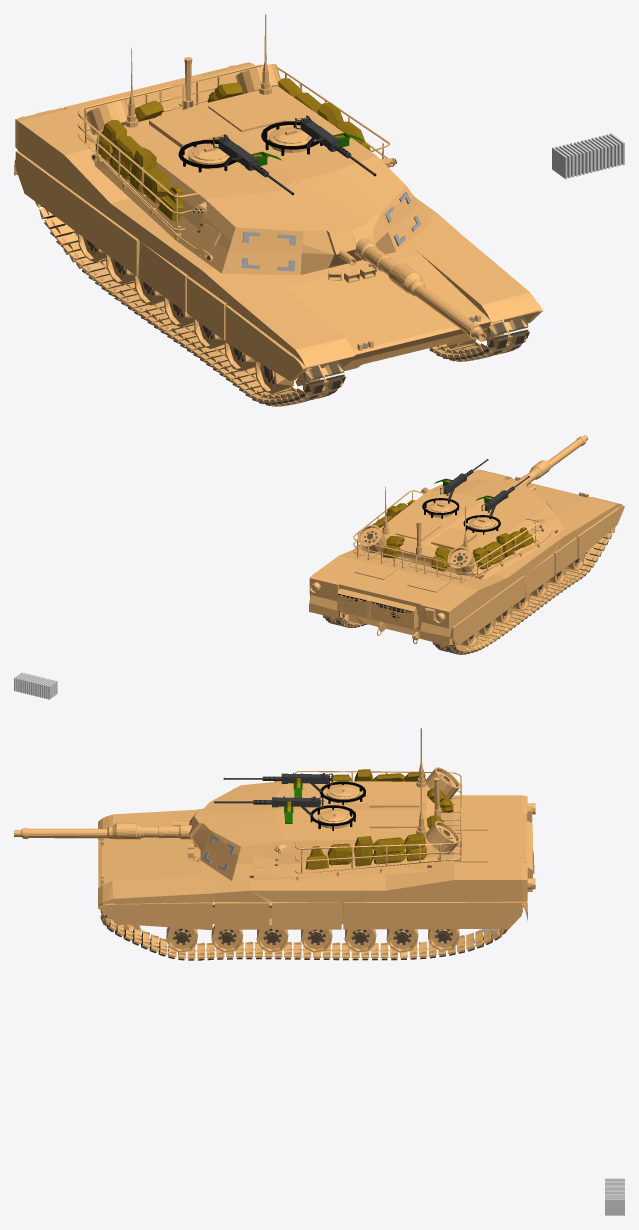
Rendered from uploads_files_3674727_m1abrams.fbx.
The picture shows the model from 3 angles, top to bottom: view 1: azimuth 30°, elevation 25°; view 2: azimuth 150°, elevation 25°; view 3: azimuth 270°, elevation 25°; orthographic projection. The views are drawn at different scales.
Visible parts, largest first — view 1: Cubo, Cubo.001, Cubo.011, Cilindro, Cubo.002, Cubo.003, Cube.002, Cube.001, Cubo.004; view 2: Cubo, Cubo.001, Cubo.011, Cubo.002, Cilindro, Cube.001, Cube.002; view 3: Cubo, Cubo.001, Cubo.003, Cilindro, Cube.001, Cube.002, Cubo.002, Cubo.004, Cubo.006, Cubo.005.
Part boxes in pixels (bbox=[...]): Cubo: bbox=[14, 62, 542, 381]; Cubo.001: bbox=[78, 14, 432, 274]; Cubo.011: bbox=[35, 201, 345, 406]; Cilindro: bbox=[338, 238, 486, 341]; Cubo.002: bbox=[552, 133, 624, 179]; Cubo.003: bbox=[429, 316, 529, 361]; Cube.002: bbox=[213, 134, 294, 195]; Cube.001: bbox=[295, 115, 376, 176]; Cubo.004: bbox=[254, 339, 475, 393]; Cubo: bbox=[309, 469, 624, 645]; Cubo.001: bbox=[353, 479, 564, 582]; Cubo.011: bbox=[432, 527, 615, 654]; Cubo.002: bbox=[14, 672, 57, 699]; Cilindro: bbox=[517, 435, 588, 490]; Cube.001: bbox=[434, 459, 488, 500]; Cube.002: bbox=[475, 476, 529, 516]; Cubo: bbox=[98, 795, 535, 930]; Cubo.001: bbox=[189, 728, 461, 881]; Cubo.003: bbox=[100, 902, 508, 960]; Cilindro: bbox=[14, 821, 191, 839]; Cube.001: bbox=[214, 796, 324, 823]; Cube.002: bbox=[223, 773, 333, 797]; Cubo.002: bbox=[605, 1178, 624, 1215]; Cubo.004: bbox=[166, 927, 197, 952]; Cubo.006: bbox=[256, 918, 288, 952]; Cubo.005: bbox=[211, 925, 243, 952].
Bounding box in the file's own units: 371 × 191 × 400.
